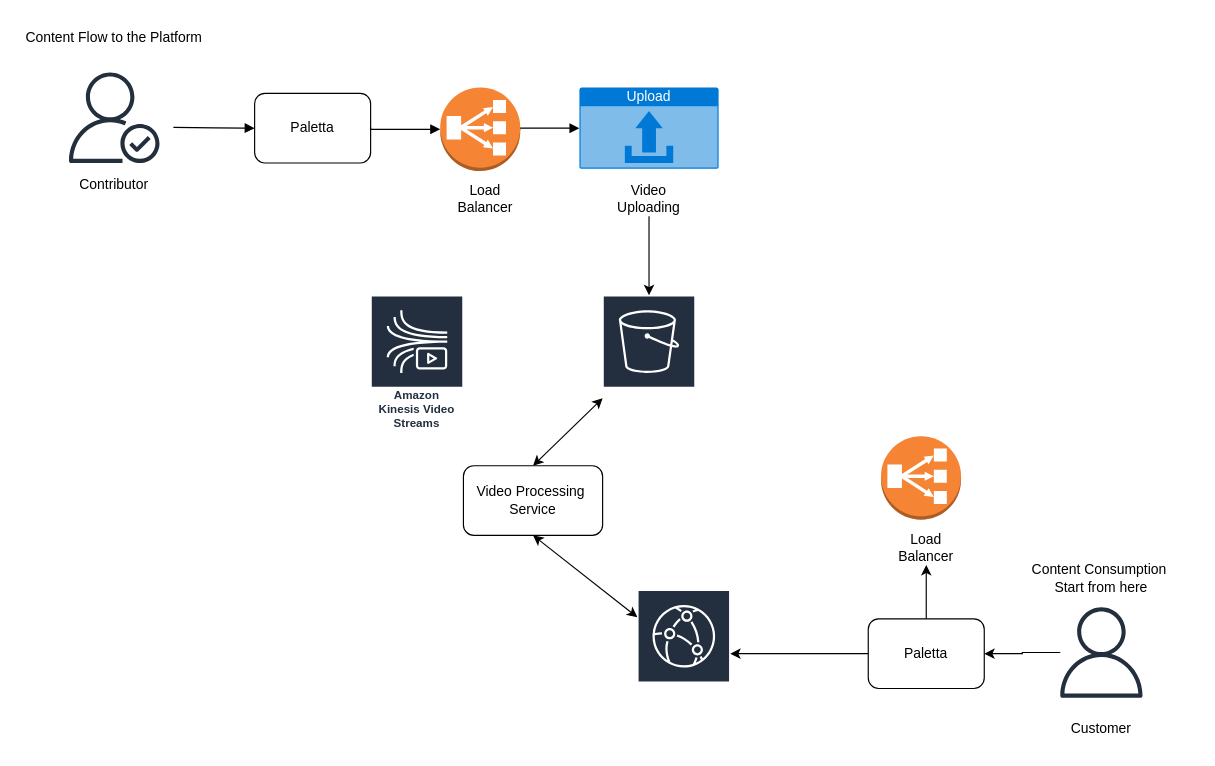
Some shapes in this 1215 by 766 pixel diagram are drawn without their labels. Each missing label, with the centre of its shape:
"Amazon Cloudfront" belongs at pixel 683 653.
"Amazon S3" belongs at pixel 648 352.
